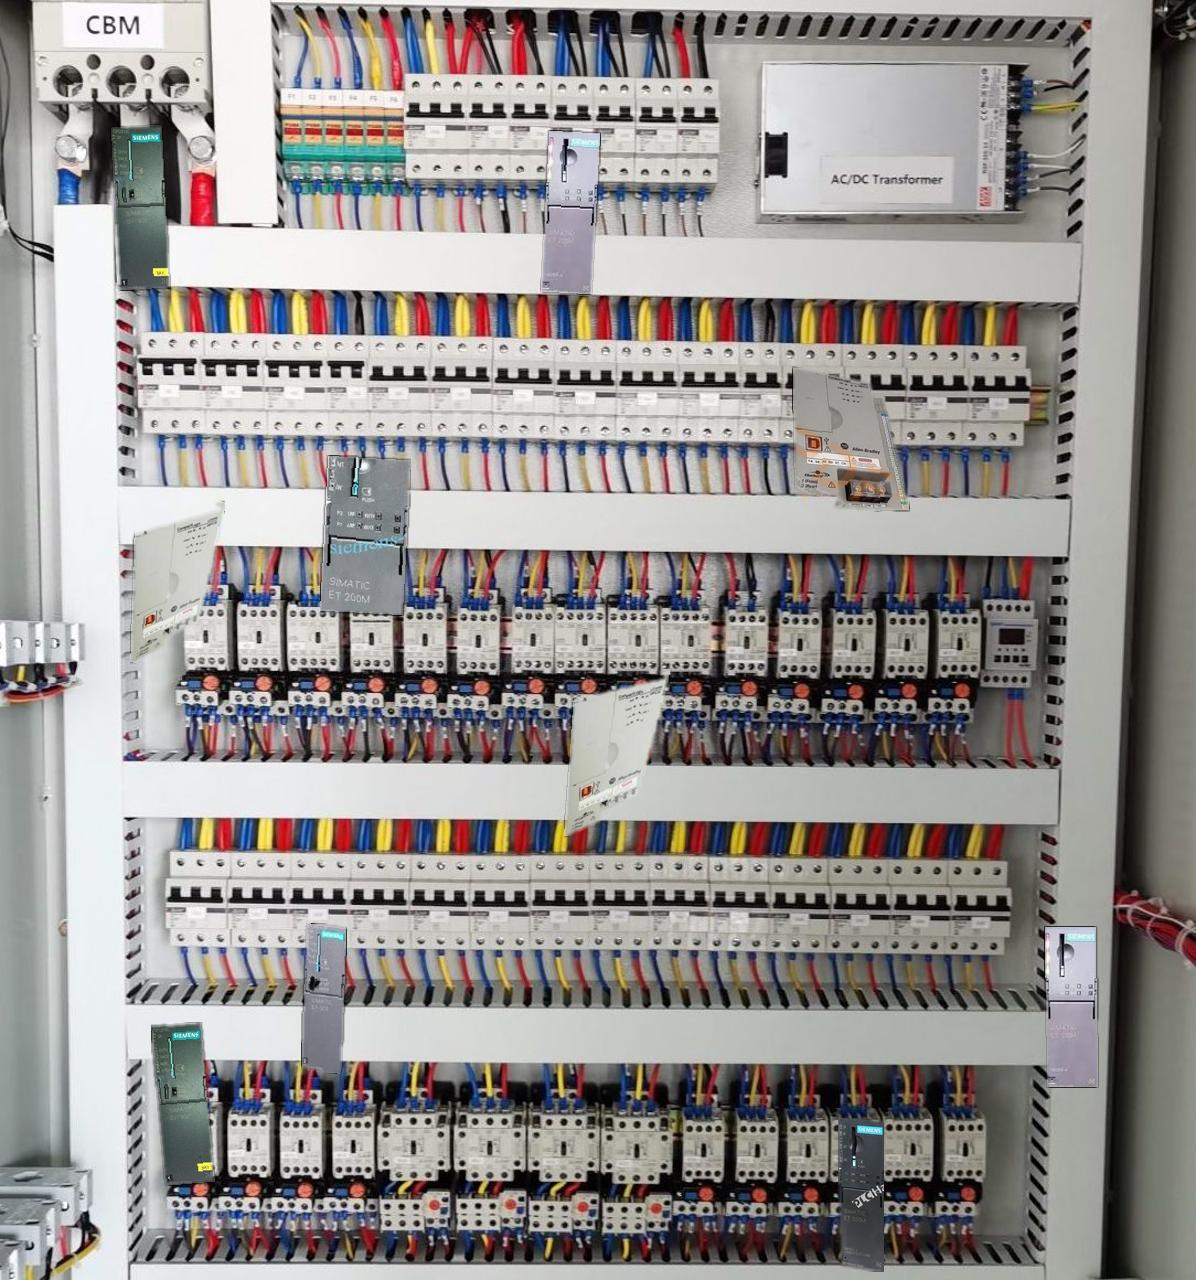AllenBradley: (565, 669, 669, 835), (792, 367, 908, 509), (132, 502, 224, 661)
Siemens: (151, 1023, 212, 1184), (111, 126, 167, 289), (302, 923, 345, 1073)
